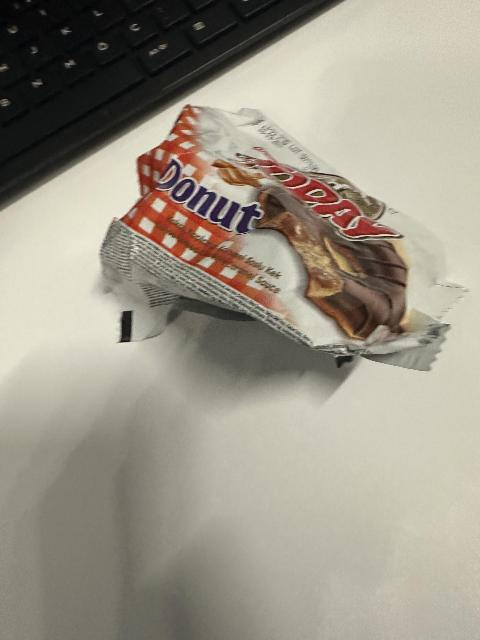Plastik: (98, 100, 468, 360)
